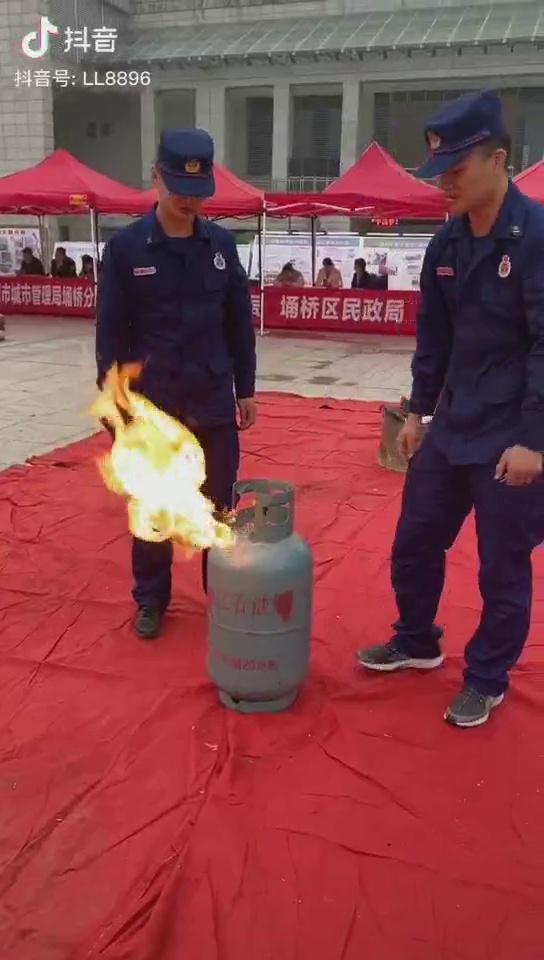fire: (90, 371, 225, 549)
